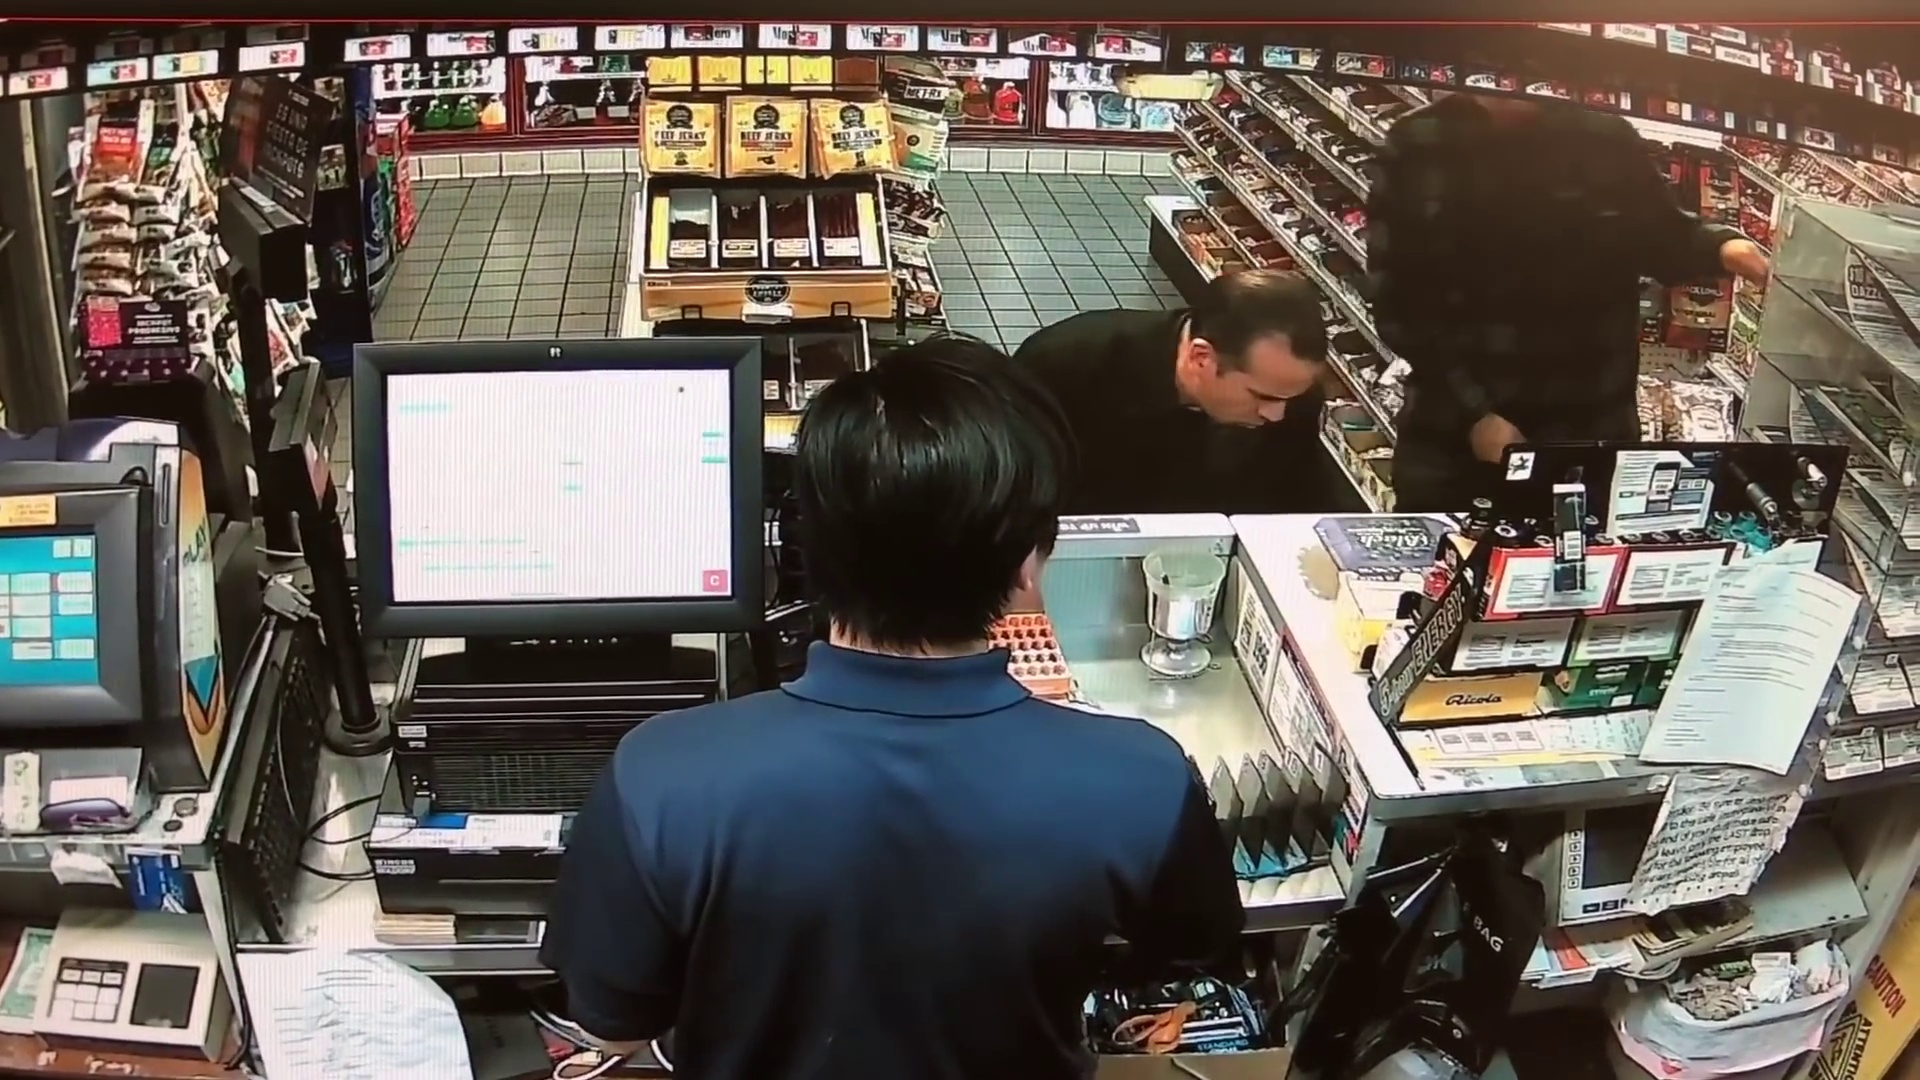face: (1210, 336, 1317, 427)
